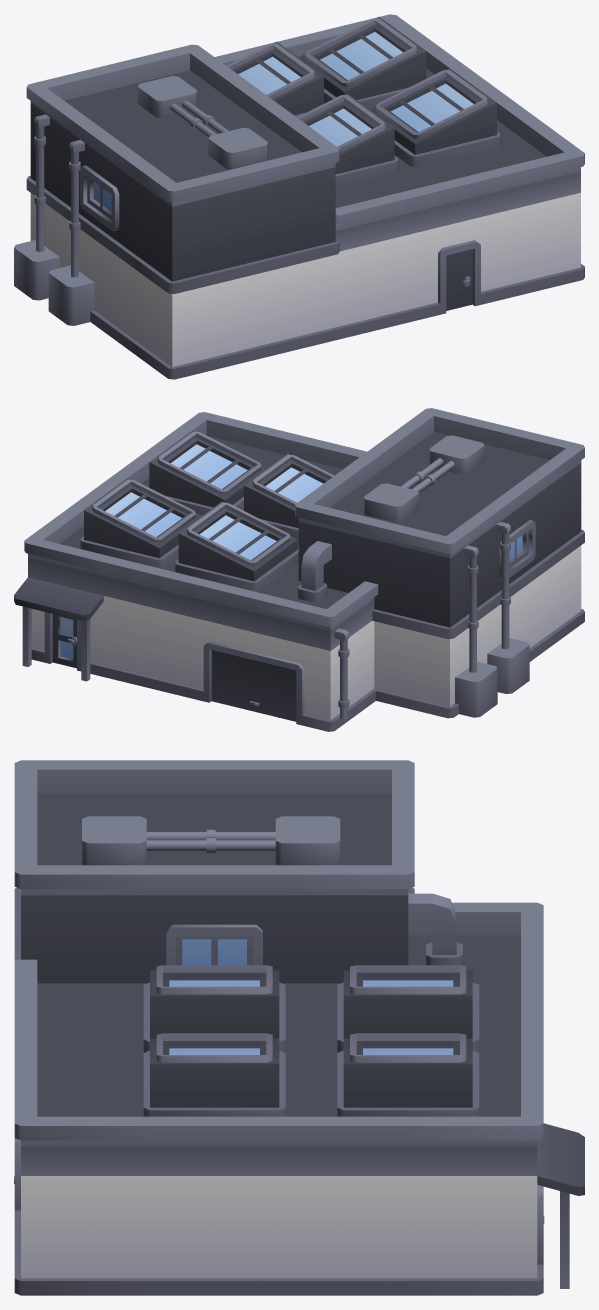
Rendered from building-q.glb.
3 renders of one model, top to bottom at view 1: azimuth 30°, elevation 25°; view 2: azimuth 150°, elevation 25°; view 3: azimuth 270°, elevation 25°, orthographic. The views are drawn at different scales.
Parts seen in each view (by area): view 1: building-q; view 2: building-q; view 3: building-q.
Part boxes in pixels (<box>): building-q: <box>14,14,584,379</box>; building-q: <box>14,408,584,731</box>; building-q: <box>14,760,584,1295</box>.
Size of the model in its own units: 2.14 by 0.8799 by 1.77.
1 material, 1 textured.
